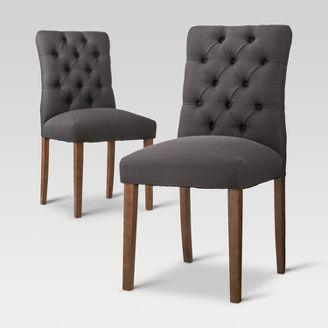chair: (108, 20, 304, 314), (32, 25, 164, 220)
